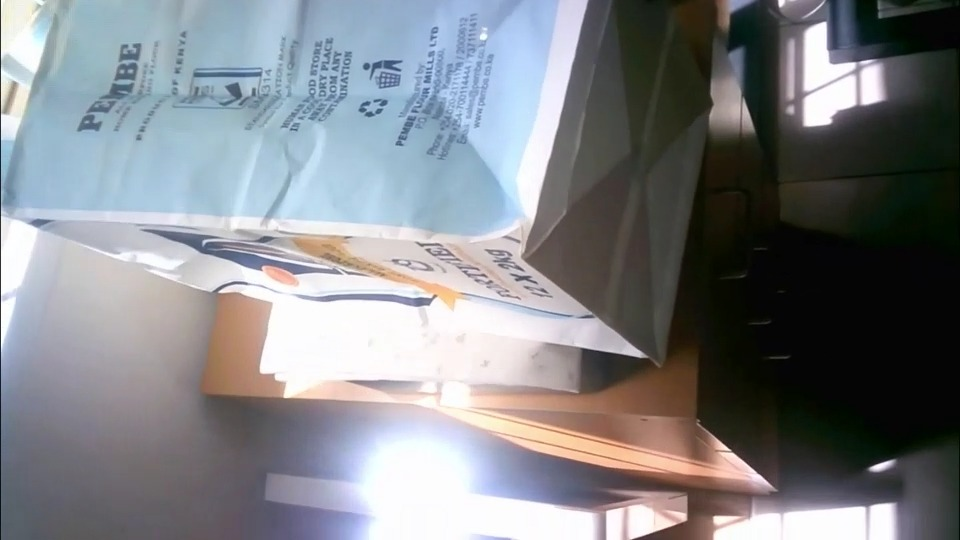wheat_flour_blue_label: (6, 2, 715, 368)
